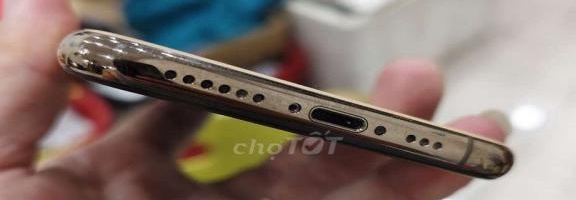scratch: (274, 76, 369, 123), (133, 40, 232, 80), (480, 143, 515, 183), (77, 37, 125, 58), (421, 122, 454, 141), (91, 59, 118, 76)
